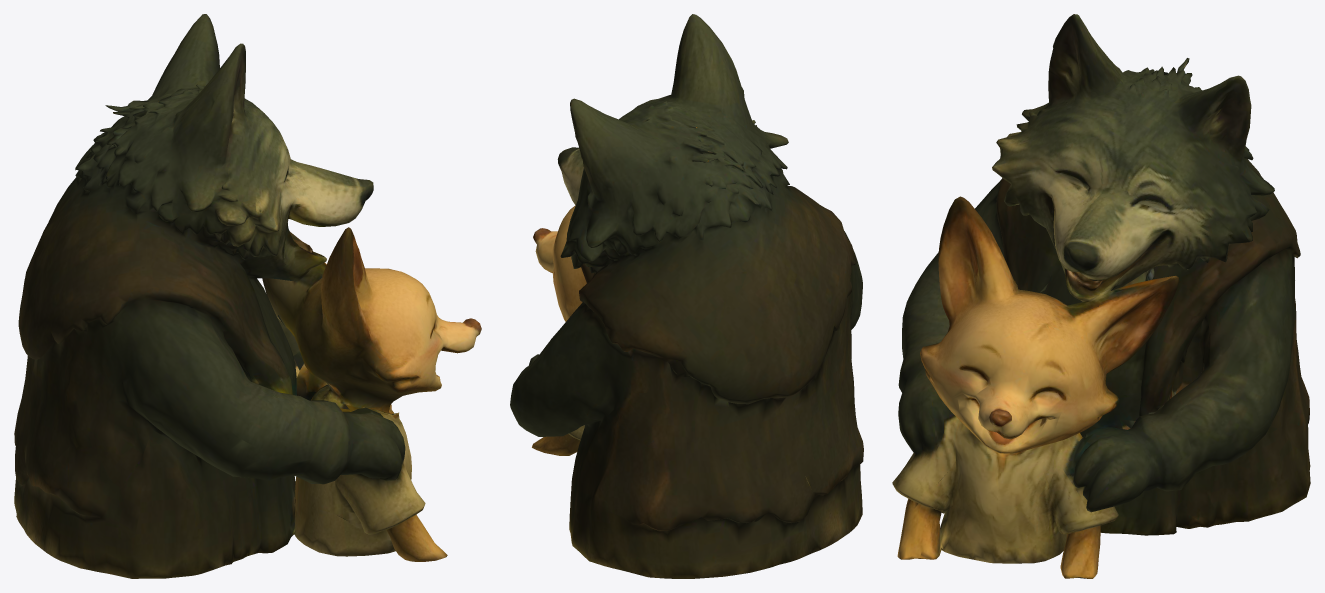
Rendered from tripo_convert_47216fd6-9423-402b-ba07-2b6420880e48.fbx.
3 renders of one model, left to right at view 1: azimuth 30°, elevation 25°; view 2: azimuth 150°, elevation 25°; view 3: azimuth 270°, elevation 25°, orthographic. The views are drawn at different scales.
Parts seen in each view (by area): view 1: tripo_node_47216fd6; view 2: tripo_node_47216fd6; view 3: tripo_node_47216fd6.
Part boxes in pixels (x1,y1,x2,y2): tripo_node_47216fd6: (14, 14, 481, 578); tripo_node_47216fd6: (510, 14, 863, 578); tripo_node_47216fd6: (892, 14, 1310, 578).
Bounding box in the file's own units: 82.87 × 100 × 77.94.
Materials: 1 (1 with a texture image).
